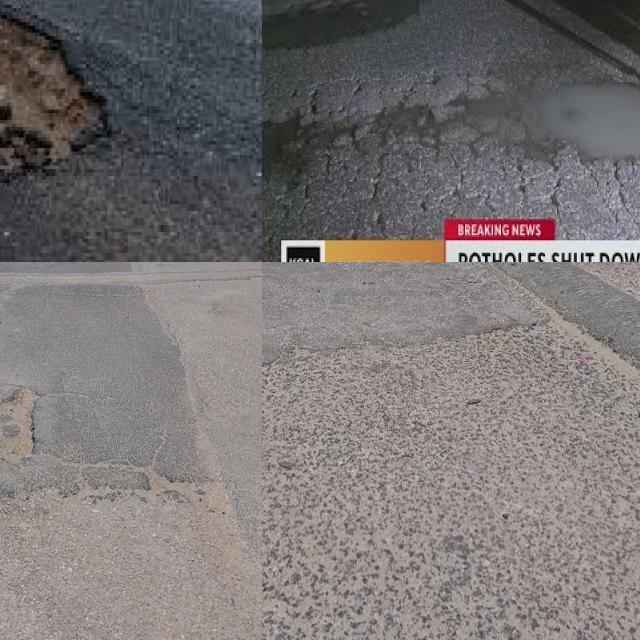Pothole: (0, 5, 107, 176), (262, 0, 424, 48), (537, 83, 640, 157), (262, 118, 354, 188), (0, 381, 43, 468)
Unmarked Bump: (493, 262, 640, 364)
